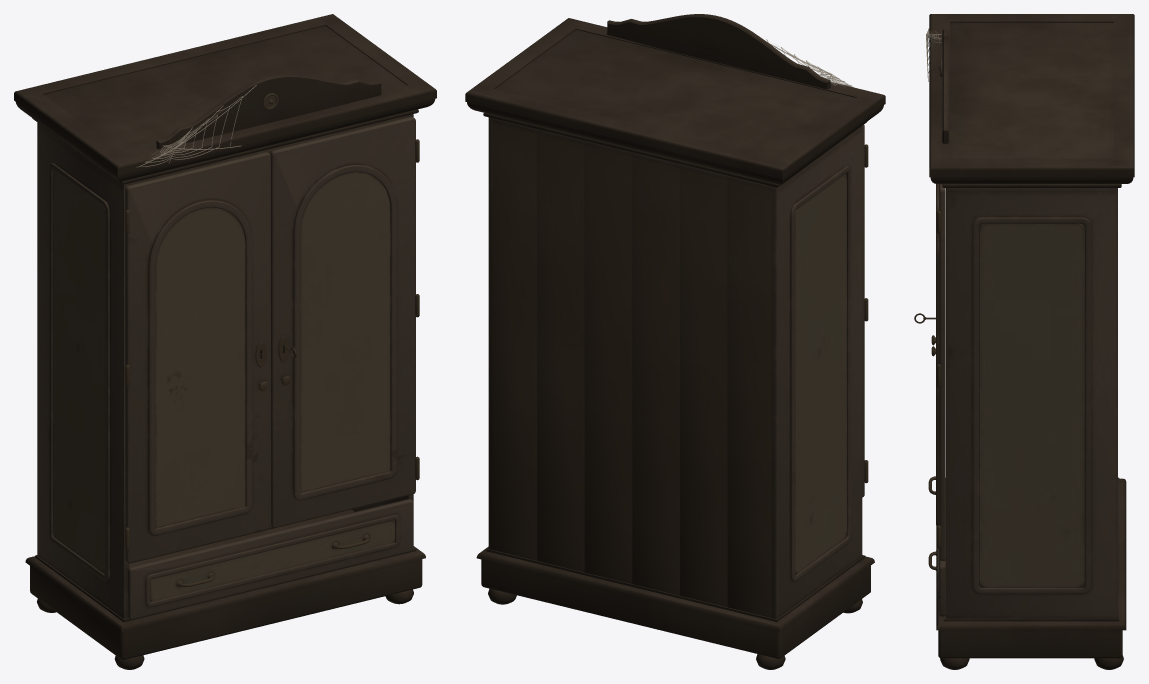
The model's file is old-wardrobe.glb.
The picture shows the model from 3 angles, left to right: view 1: azimuth 30°, elevation 25°; view 2: azimuth 150°, elevation 25°; view 3: azimuth 270°, elevation 25°; orthographic projection.
Visible parts, largest first — view 1: old-wardrobe_body, old-wardrobe_door_left, old-wardrobe_door_right, old-wardrobe_web; view 2: old-wardrobe_body, old-wardrobe_door_left; view 3: old-wardrobe_body, old-wardrobe_door_right.
Part boxes in pixels (x1,y1,x2,y2): old-wardrobe_body: (14,14,436,669); old-wardrobe_door_left: (125,152,270,563); old-wardrobe_door_right: (270,116,415,527); old-wardrobe_web: (137,85,256,167); old-wardrobe_body: (465,14,885,669); old-wardrobe_door_left: (862,125,864,497); old-wardrobe_body: (928,14,1134,669); old-wardrobe_door_right: (914,184,945,560).
Size of the model in its own units: 1.23 by 2.06 by 0.7426.
Materials: 5 (3 with a texture image).
